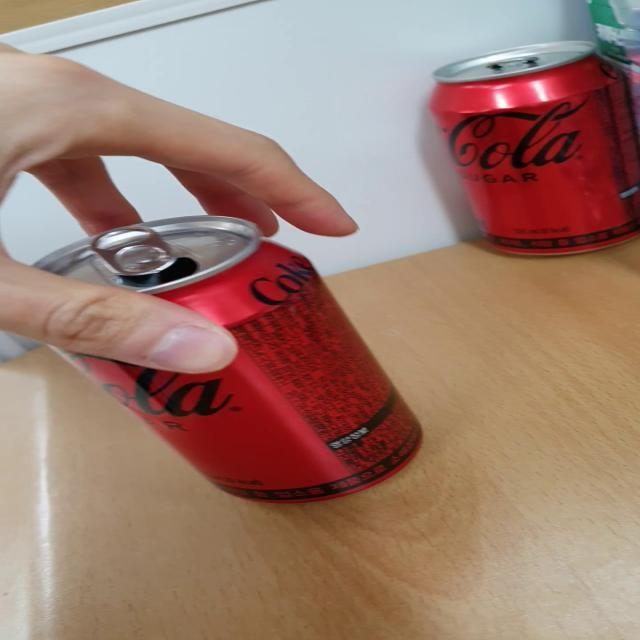coca-cola: (12, 207, 448, 515), (418, 34, 640, 280)
